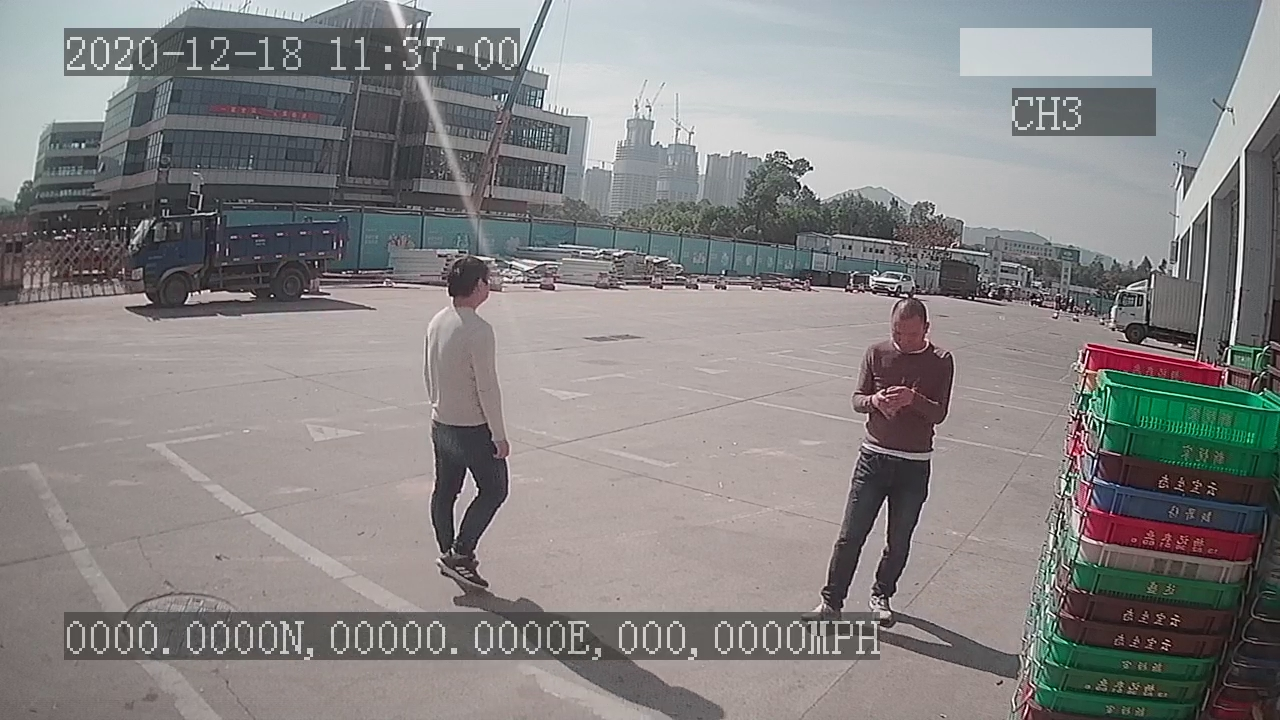person: (412, 254, 519, 589)
